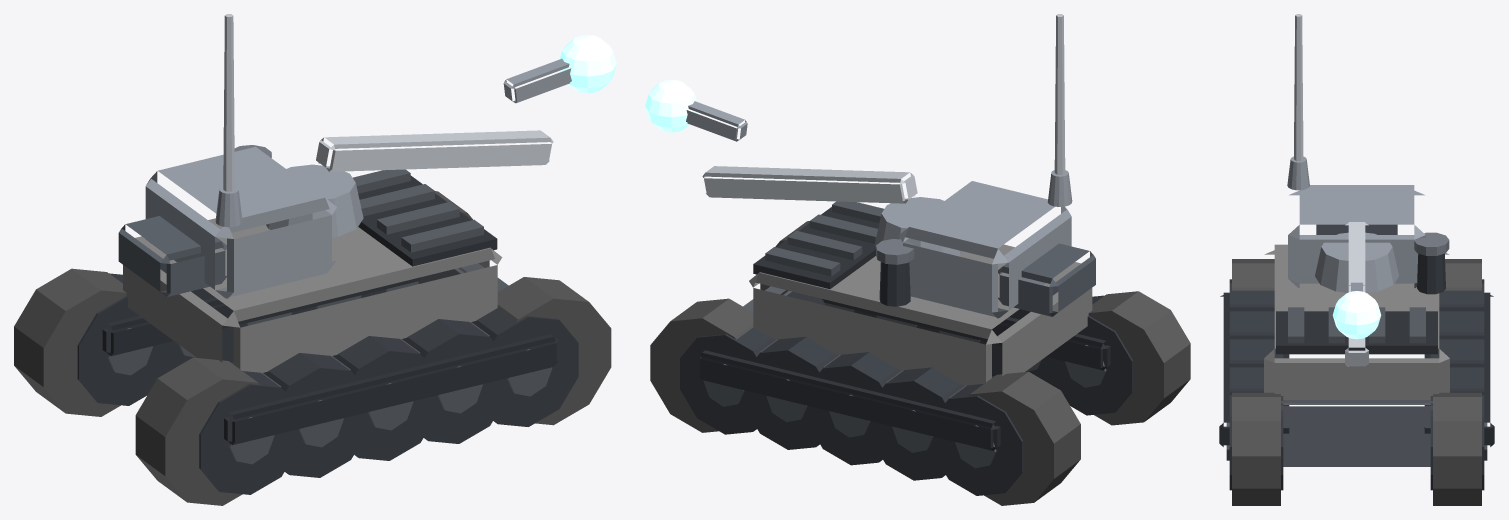
The model's file is con_engineer.glb.
3 views of the same model, side by side, from view 1: azimuth 30°, elevation 25°; view 2: azimuth 150°, elevation 25°; view 3: azimuth 270°, elevation 25° (orthographic). The views are drawn at different scales.
Parts seen in each view (by area): view 1: body, turret; view 2: body, turret; view 3: body, turret.
Part boxes in pixels (bbox=[...]): body: bbox=[14, 14, 611, 505]; turret: bbox=[266, 35, 616, 237]; body: bbox=[650, 14, 1190, 505]; turret: bbox=[645, 79, 962, 256]; body: bbox=[1219, 14, 1494, 505]; turret: bbox=[1315, 222, 1398, 366].
Bounding box in the file's own units: 33.92 × 27.84 × 18.7.
